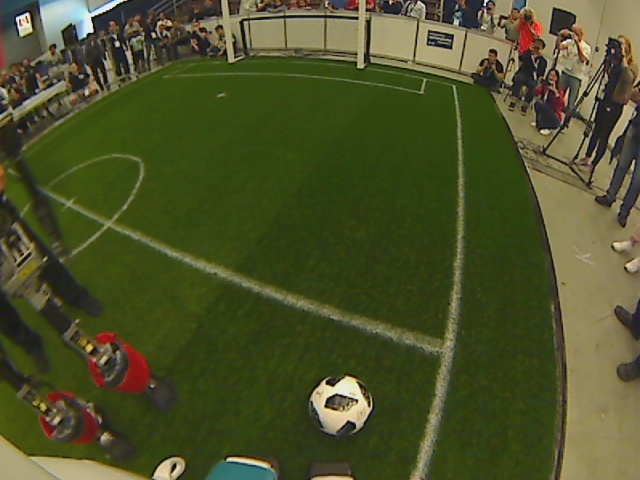ball: (304, 370, 376, 442)
